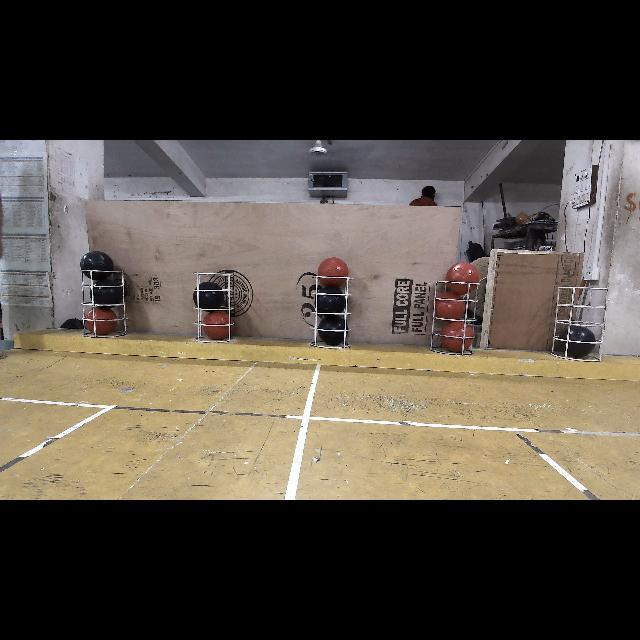P: (560, 326, 596, 356), (81, 251, 113, 280), (319, 317, 349, 345), (192, 284, 224, 310), (92, 281, 125, 305), (315, 288, 345, 314)
R: (445, 262, 480, 295), (444, 320, 474, 352), (318, 258, 349, 288), (434, 294, 466, 320), (200, 312, 230, 338), (87, 307, 113, 335)
S: (554, 285, 610, 363), (432, 276, 482, 358), (78, 267, 130, 339), (192, 269, 238, 345), (312, 274, 352, 350)
